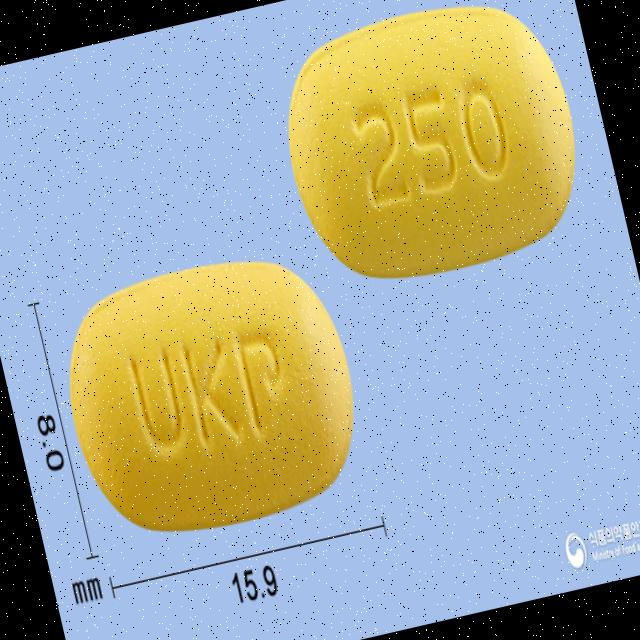Clazin - 500mg: (44, 232, 377, 554), (261, 0, 599, 300)
